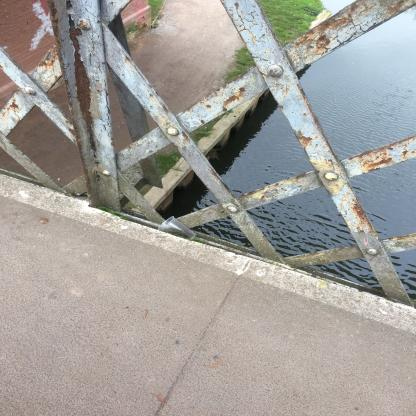trash: (155, 214, 199, 244)
